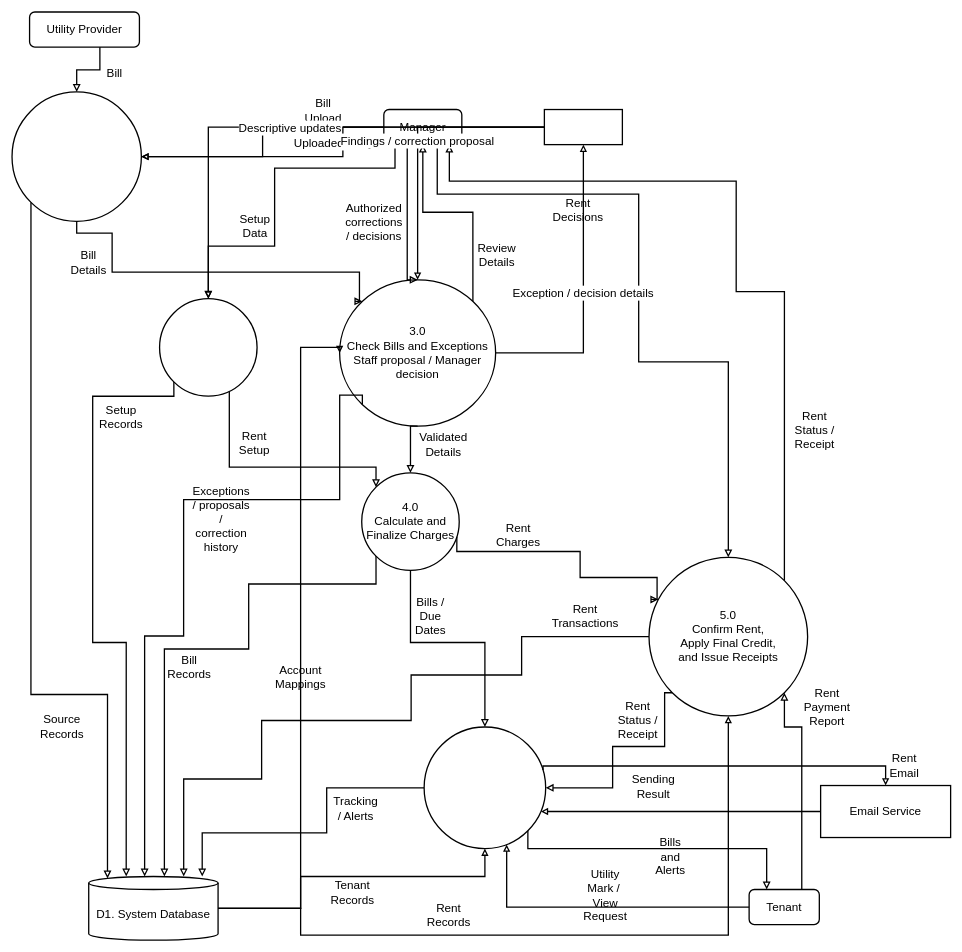
Image size: 962x952. Some labels were removed from this diagram. The box of each missing label's shape, as (x1, y1, x2, y2) in pixels:
1.0 Manage Setup: (159, 298, 257, 396)
2.0 Extract Bill Details Text / OCR: (11, 91, 142, 222)
6.0 Tenant Portal and Alerts Utility Tracker: (423, 726, 546, 849)
Staff: (543, 109, 623, 145)
